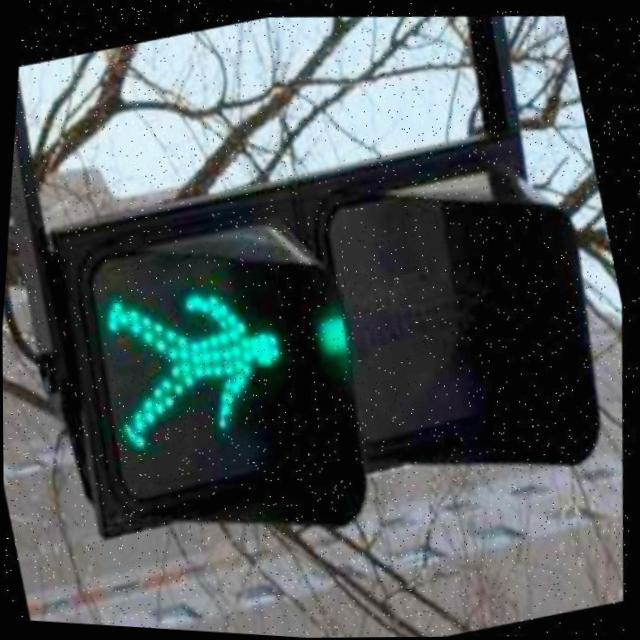green_light: (77, 243, 318, 468)
